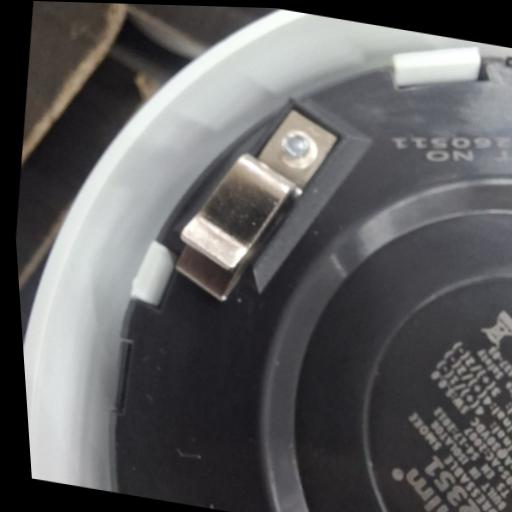yayli: (156, 85, 356, 323)
